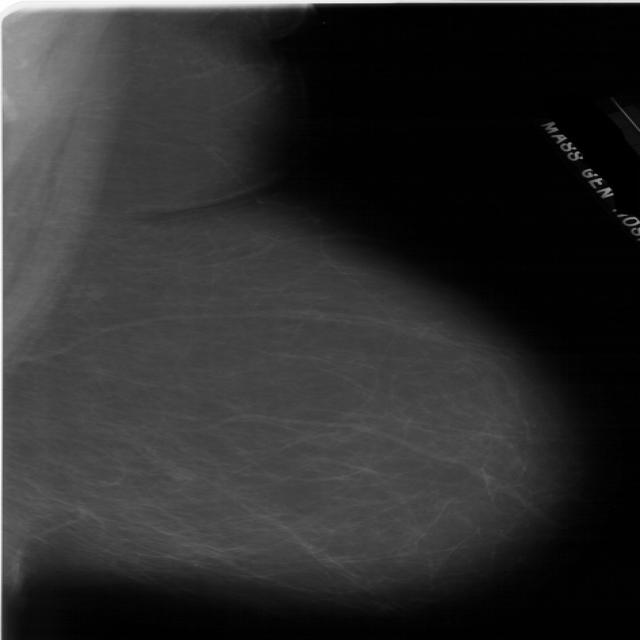tumour: (157, 466, 194, 480)
